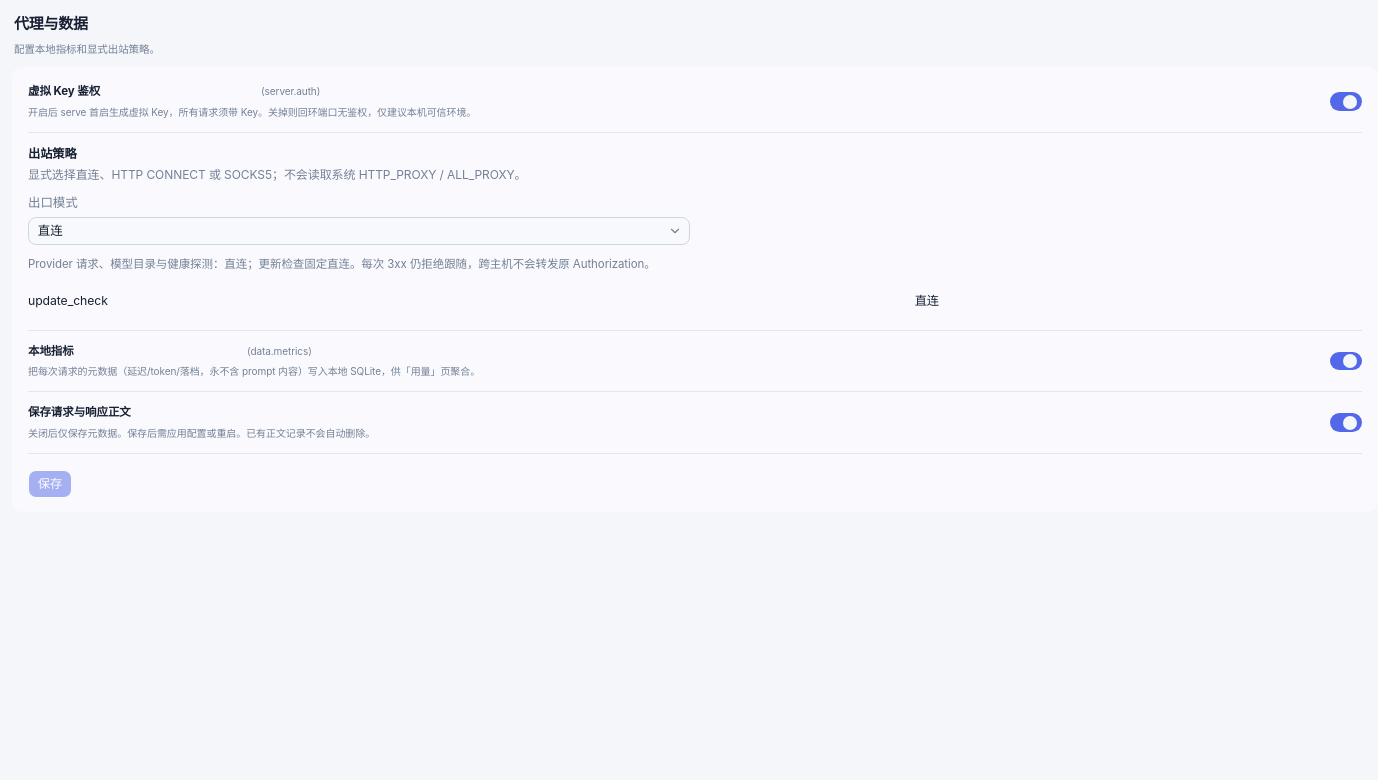
settings and update actions › saves changed settings and explains the running-server restart
Click the switch named "虚拟 Key 鉴权" in the row of "(server.auth)".
click(1346, 102)  # box [1330,92,1362,111]
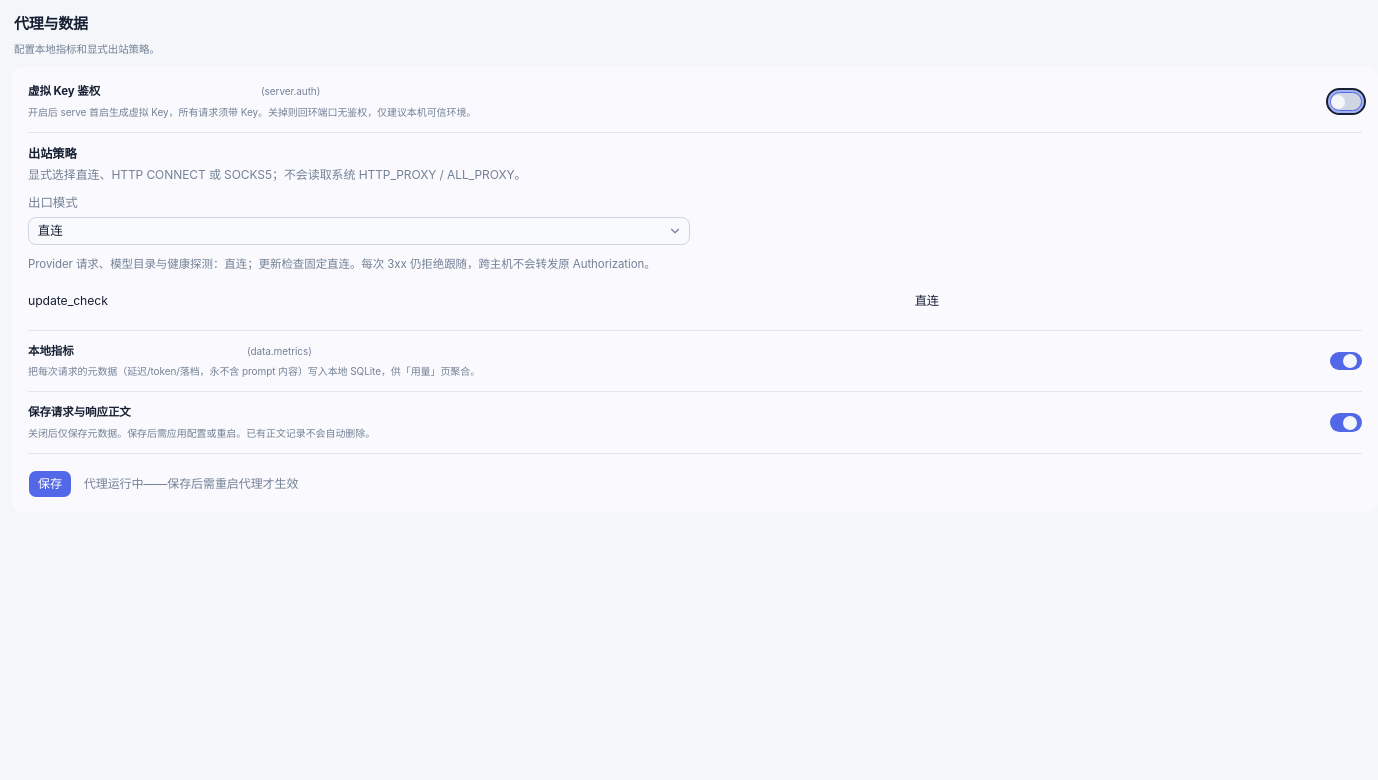
Expected: the text "代理运行中——保存后需重启代理才生效" is shown, [84,475,298,492]
Click the button "保存".
click(50, 484)  # box [28,470,72,498]
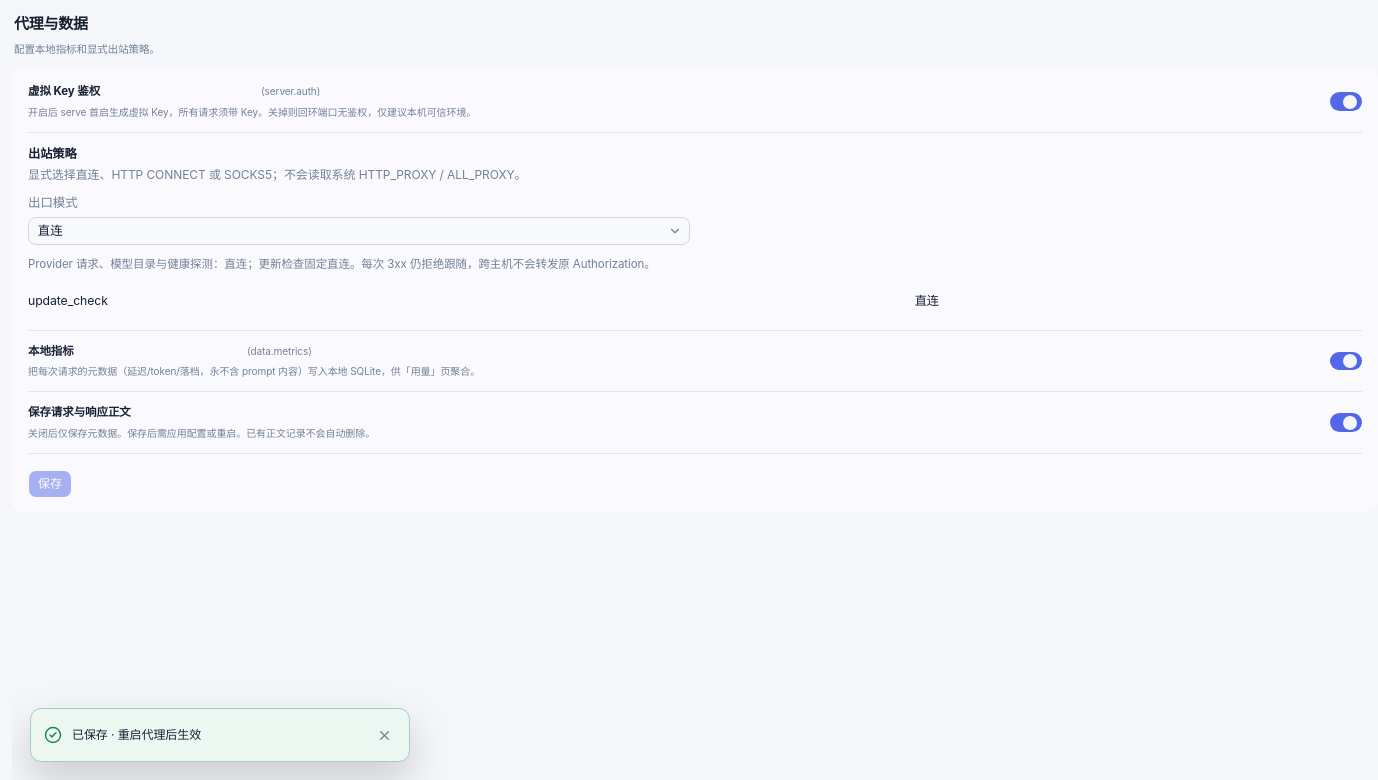
Expected: the message reads "已保存 · 重启代理后生效", [72,727,201,742]
